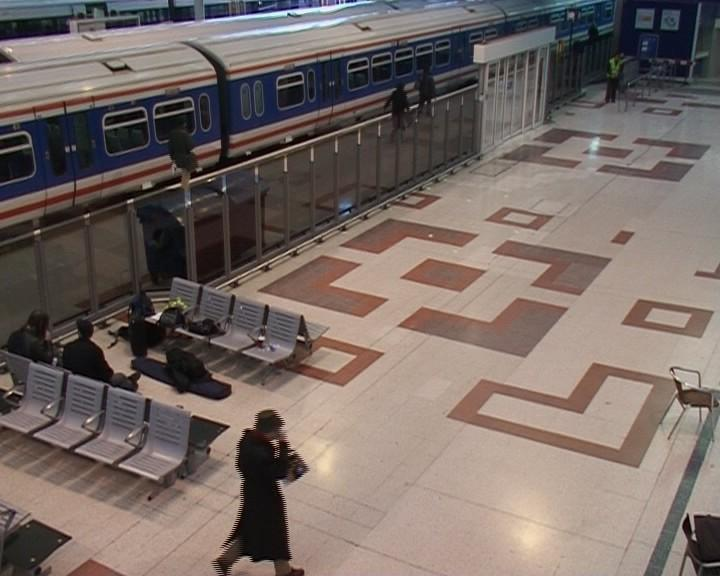person: (209, 405, 317, 574), (382, 79, 410, 144)
